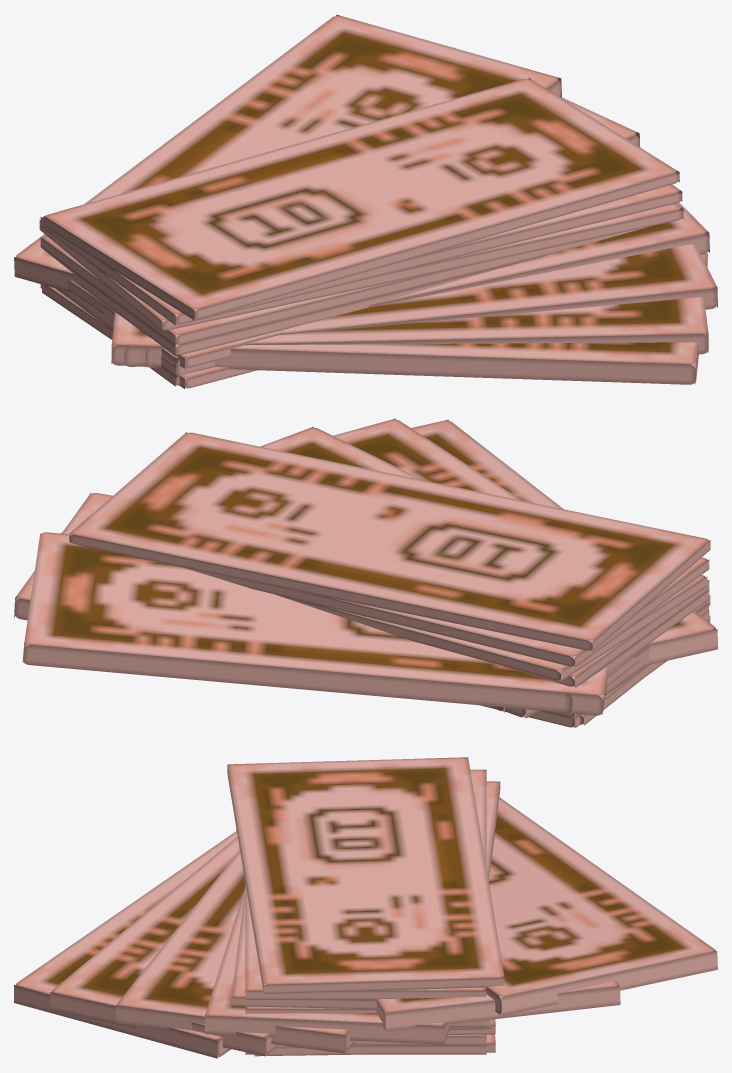
Rendered from Dollar.fbx.
3 renders of one model, top to bottom at view 1: azimuth 30°, elevation 25°; view 2: azimuth 150°, elevation 25°; view 3: azimuth 270°, elevation 25°, orthographic. The views are drawn at different scales.
Visible parts, largest first — view 1: Dollar_Pack_01, Dollar_Pack_02; view 2: Dollar_Pack_01, Dollar_Pack_02, Dollar; view 3: Dollar_Pack_02, Dollar_Pack_01, Dollar.
Boxes of the visible parts, box(x1,y1,x2,y2) form: Dollar_Pack_01: box(39, 78, 683, 388); Dollar_Pack_02: box(14, 14, 717, 384); Dollar_Pack_01: box(69, 432, 710, 725); Dollar_Pack_02: box(14, 418, 717, 718); Dollar: box(480, 620, 709, 728); Dollar_Pack_02: box(14, 797, 717, 1058); Dollar_Pack_01: box(227, 757, 504, 1056); Dollar: box(245, 1045, 486, 1054).
Bounding box in the file's own units: 14.87 × 2 × 17.5.
Materials: 1 (1 with a texture image).
